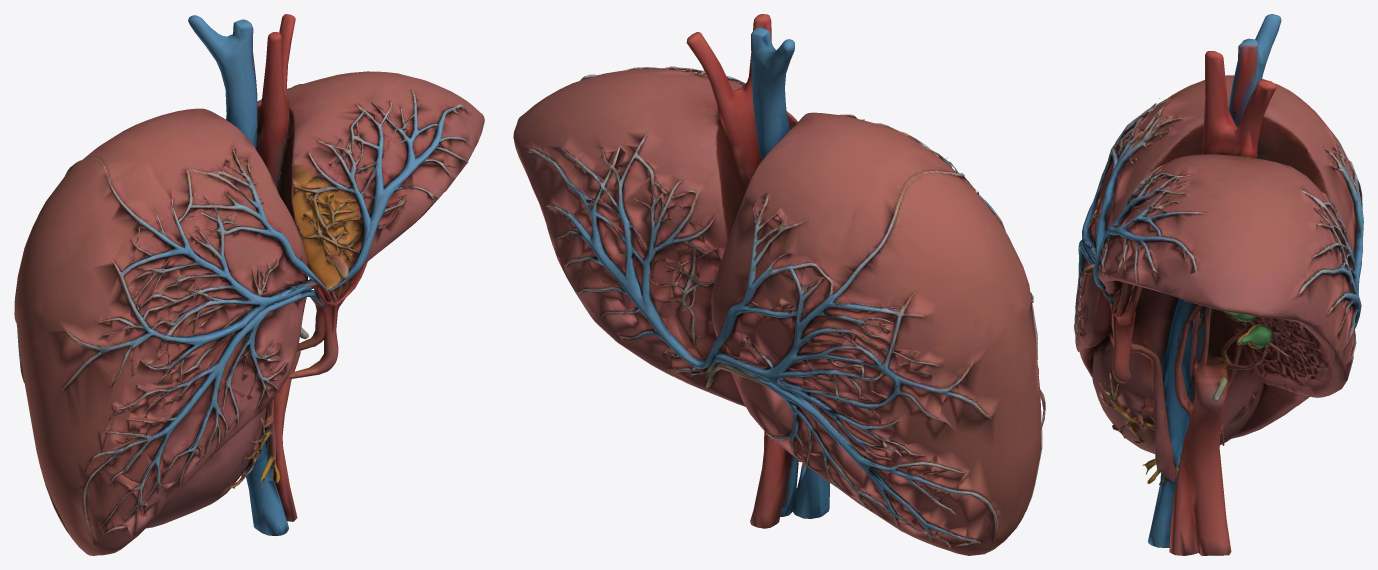
File: liver.glb
The picture shows the model from 3 angles, left to right: view 1: azimuth 30°, elevation 25°; view 2: azimuth 150°, elevation 25°; view 3: azimuth 270°, elevation 25°; orthographic projection. The views are drawn at different scales.
Parts seen in each view (by area): view 1: tripo_node_1c7e641c-603f-41bd-b81d-f90f99063845; view 2: tripo_node_1c7e641c-603f-41bd-b81d-f90f99063845; view 3: tripo_node_1c7e641c-603f-41bd-b81d-f90f99063845.
Boxes of the visible parts, box(x1,y1,x2,y2) form: tripo_node_1c7e641c-603f-41bd-b81d-f90f99063845: box(14, 14, 484, 555); tripo_node_1c7e641c-603f-41bd-b81d-f90f99063845: box(513, 14, 1045, 555); tripo_node_1c7e641c-603f-41bd-b81d-f90f99063845: box(1074, 14, 1363, 555).
Bounding box in the file's own units: 0.9928 × 0.9993 × 0.5118.
1 material, 1 textured.
